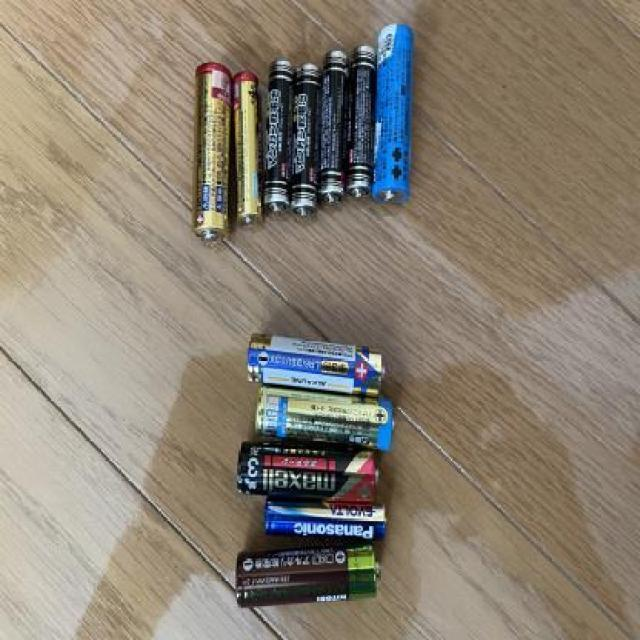AA: (248, 330, 392, 404), (228, 544, 384, 612), (254, 388, 396, 456), (235, 443, 380, 506), (369, 24, 418, 204), (193, 55, 236, 258), (260, 496, 392, 544)
AAA: (228, 69, 269, 234), (340, 44, 382, 200), (288, 66, 324, 219), (318, 48, 352, 209), (260, 60, 294, 216)
